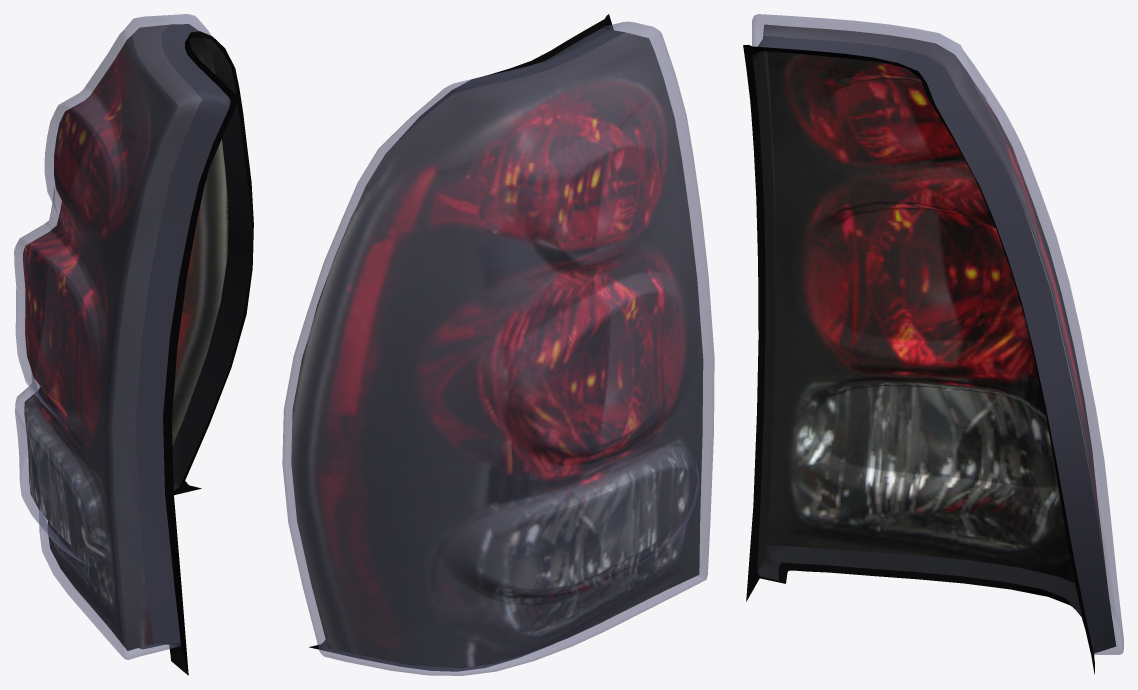
3 views of the same model, side by side, from view 1: azimuth 30°, elevation 25°; view 2: azimuth 150°, elevation 25°; view 3: azimuth 270°, elevation 25° (orthographic). The views are drawn at different scales.
Visible parts, largest first — view 1: U843_9A_541C_L_1_N_U843_9A_541C_L, U843_9A_541C_L_U843_9A_541C_L_2_DTaSI, U843_9A_541C_L_U843_9A_541C_L_3_D; view 2: U843_9A_541C_L_U843_9A_541C_L_2_DTaSI, U843_9A_541C_L_1_N_U843_9A_541C_L, U843_9A_541C_L_U843_9A_541C_L_3_D; view 3: U843_9A_541C_L_1_N_U843_9A_541C_L, U843_9A_541C_L_U843_9A_541C_L_2_DTaSI, U843_9A_541C_L_U843_9A_541C_L_3_D.
Boxes of the visible parts, <box> form: U843_9A_541C_L_1_N_U843_9A_541C_L: <box>23,24,252,650</box>; U843_9A_541C_L_U843_9A_541C_L_2_DTaSI: <box>14,14,230,659</box>; U843_9A_541C_L_U843_9A_541C_L_3_D: <box>139,31,253,675</box>; U843_9A_541C_L_U843_9A_541C_L_2_DTaSI: <box>282,21,714,675</box>; U843_9A_541C_L_1_N_U843_9A_541C_L: <box>291,28,703,668</box>; U843_9A_541C_L_U843_9A_541C_L_3_D: <box>309,14,613,671</box>; U843_9A_541C_L_1_N_U843_9A_541C_L: <box>752,24,1115,653</box>; U843_9A_541C_L_U843_9A_541C_L_2_DTaSI: <box>752,14,1123,654</box>; U843_9A_541C_L_U843_9A_541C_L_3_D: <box>743,44,1094,673</box>.
Size of the model in its own units: 18.05 by 33.91 by 19.94.
